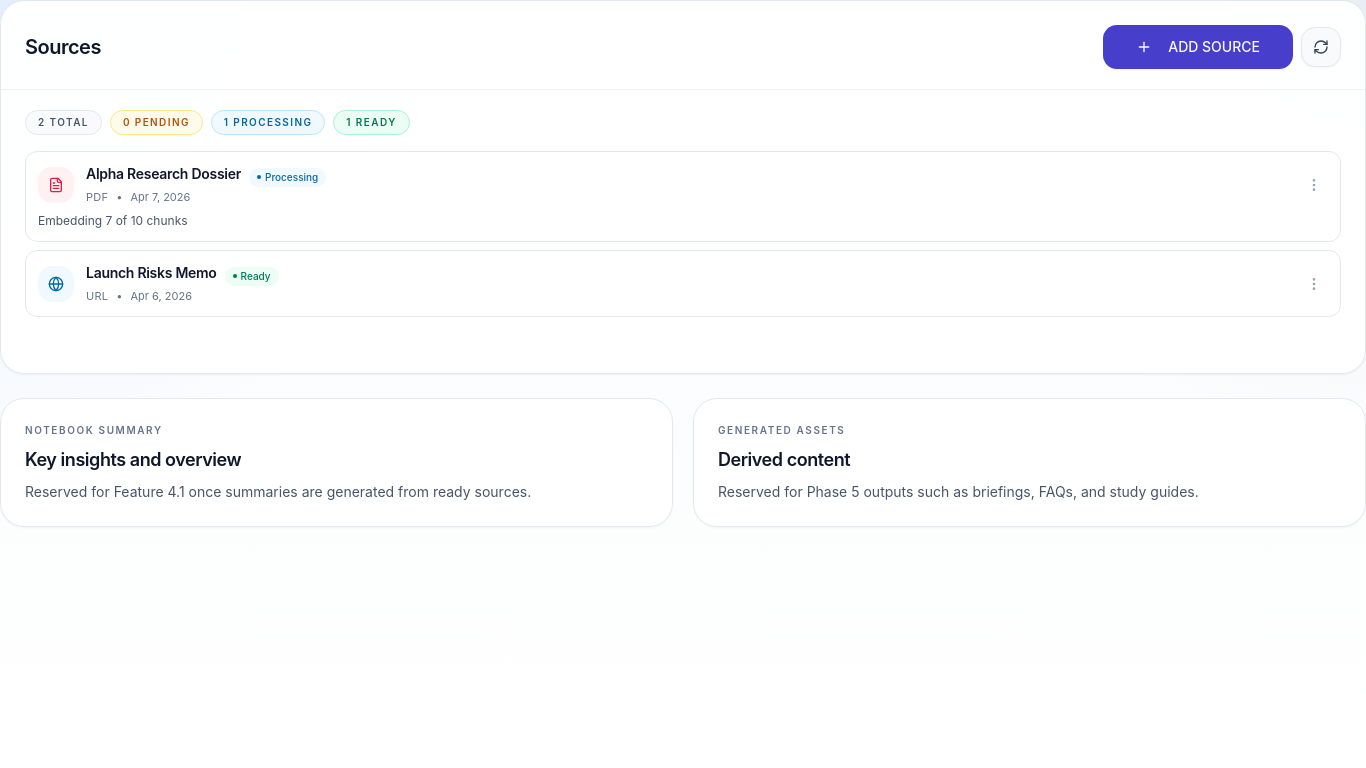
NotebookWorkspace › keeps source actions accessible when the snapshot preview is already open
Expected: the heading "Launch Risks Memo" is shown, x1=86 y1=263 x2=217 y2=283
Hover over the element with test id "source-row-source-2".
mouse_move(683, 284)  # box x1=25 y1=250 x2=1341 y2=317
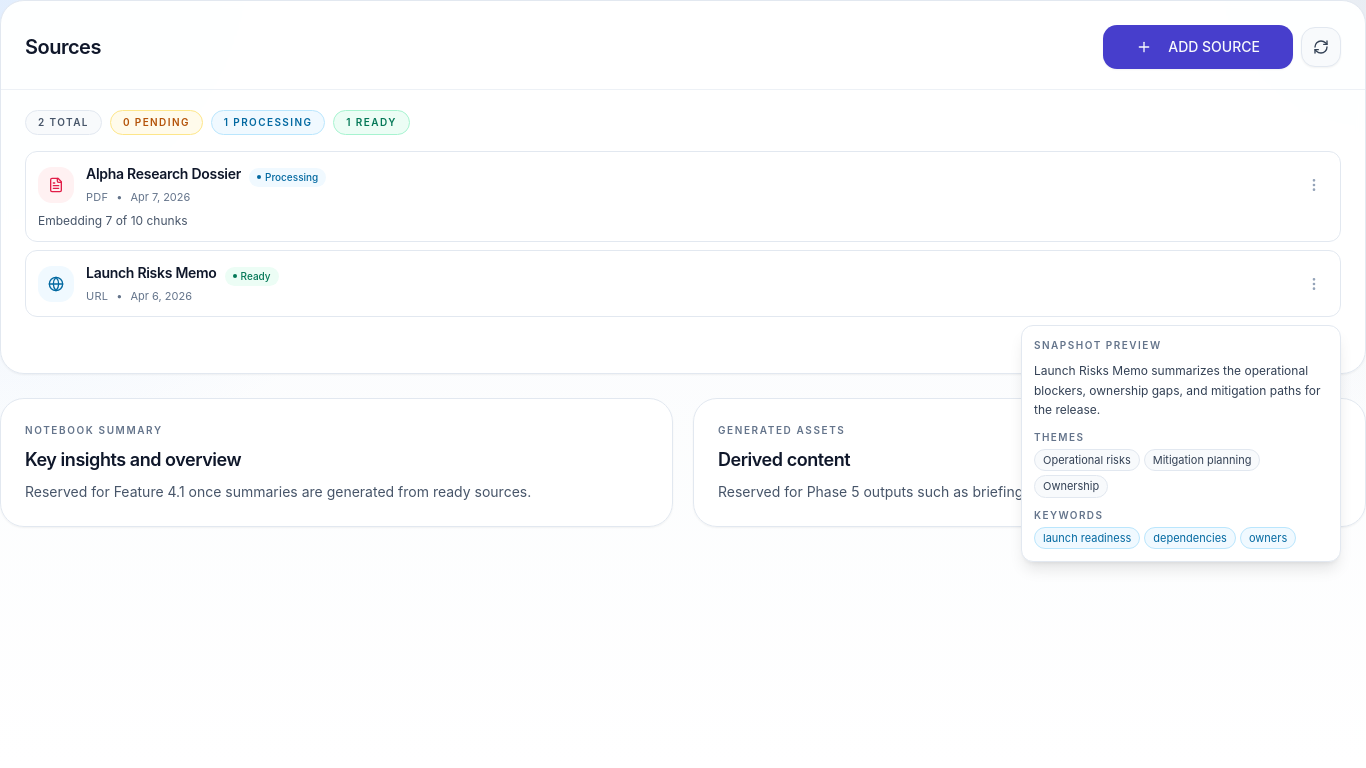
Now the text "Snapshot preview" is shown, box x1=1034 y1=339 x2=1162 y2=351
Click the button named "More actions for Launch Risks Memo".
click(1314, 284)  # box x1=1300 y1=270 x2=1328 y2=298
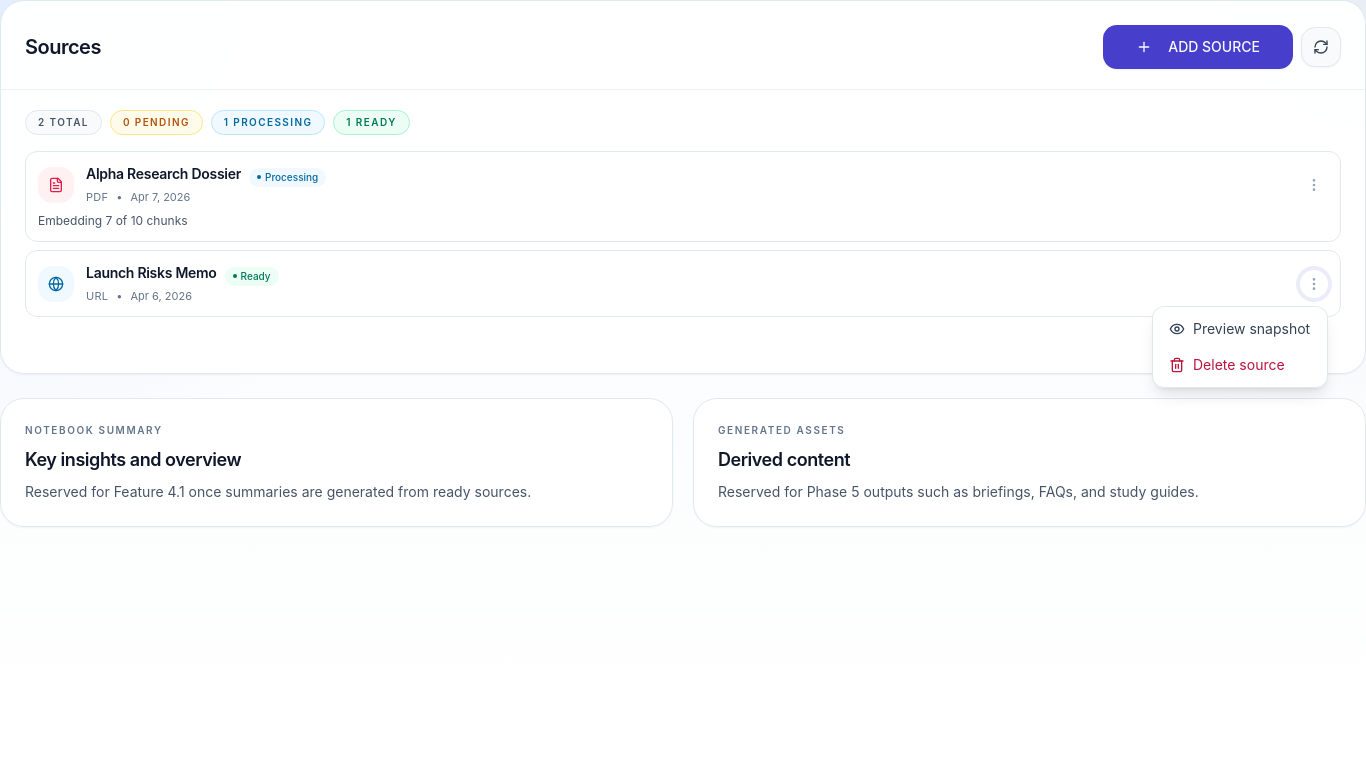
Now the button "Preview snapshot" is shown, box x1=1157 y1=310 x2=1323 y2=346
Now the button "Delete source" is shown
Click the button "Delete source".
click(1240, 364)  # box x1=1157 y1=346 x2=1323 y2=382
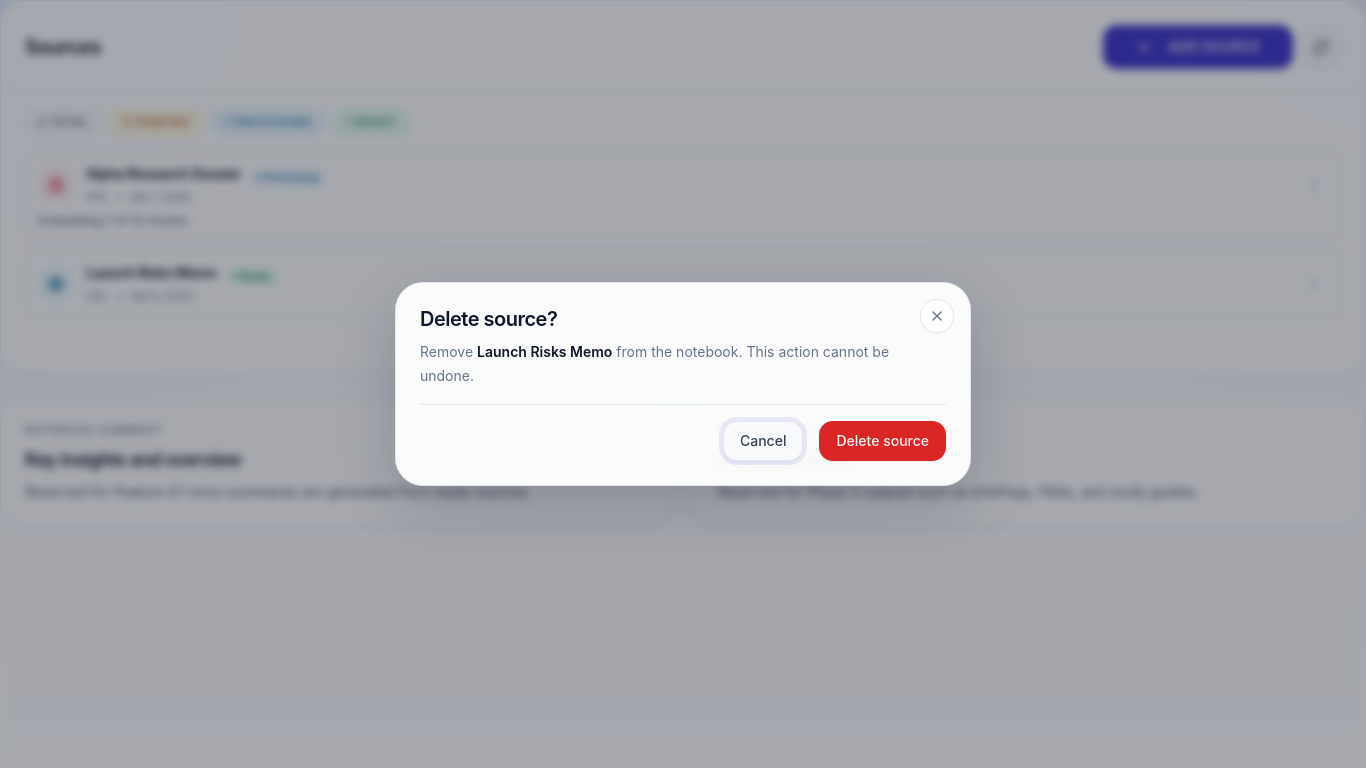
Now the dialog is shown, box x1=395 y1=282 x2=971 y2=486
